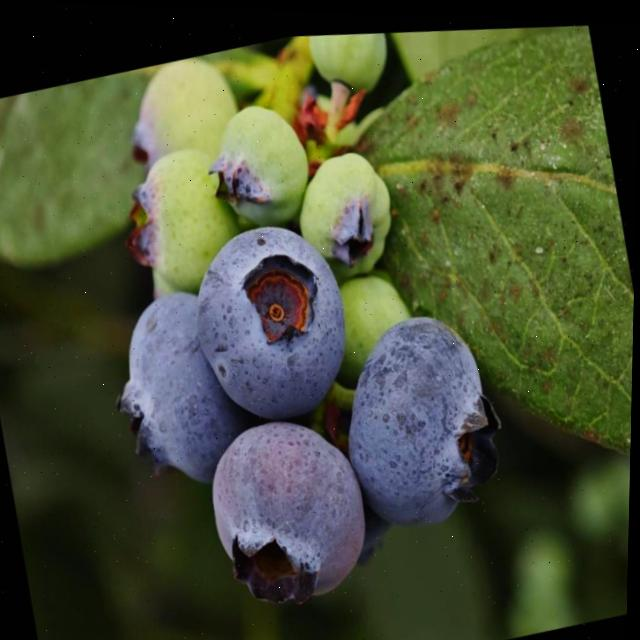RipeBlueBerry: (326, 293, 510, 538), (192, 396, 382, 619), (179, 200, 363, 427)
UnripeBlueBerry: (206, 84, 317, 230)
